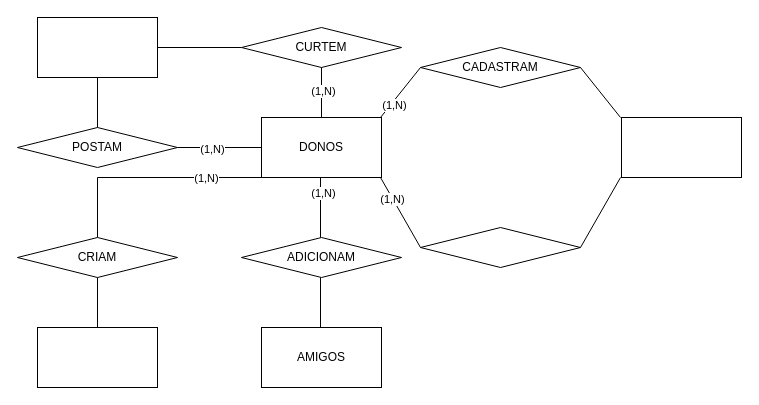
The diagram is 759 pixels wide and 405 high, and some of its shapes have lost their labels. Each missing label, with the box of its shape:
AGENDA: (36, 326, 158, 388)
ANIMAIS: (620, 116, 742, 178)
NOTICIAS: (36, 16, 158, 78)
POSSUEM: (420, 226, 580, 268)
